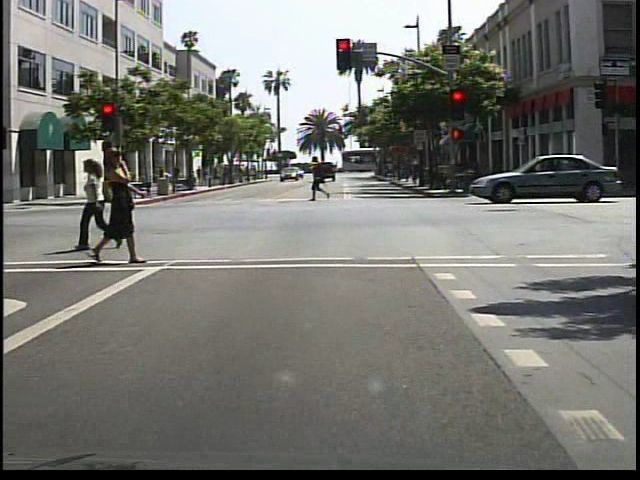person: (98, 140, 152, 267), (78, 156, 124, 252), (306, 155, 334, 204), (2, 147, 8, 273), (167, 162, 182, 190)
